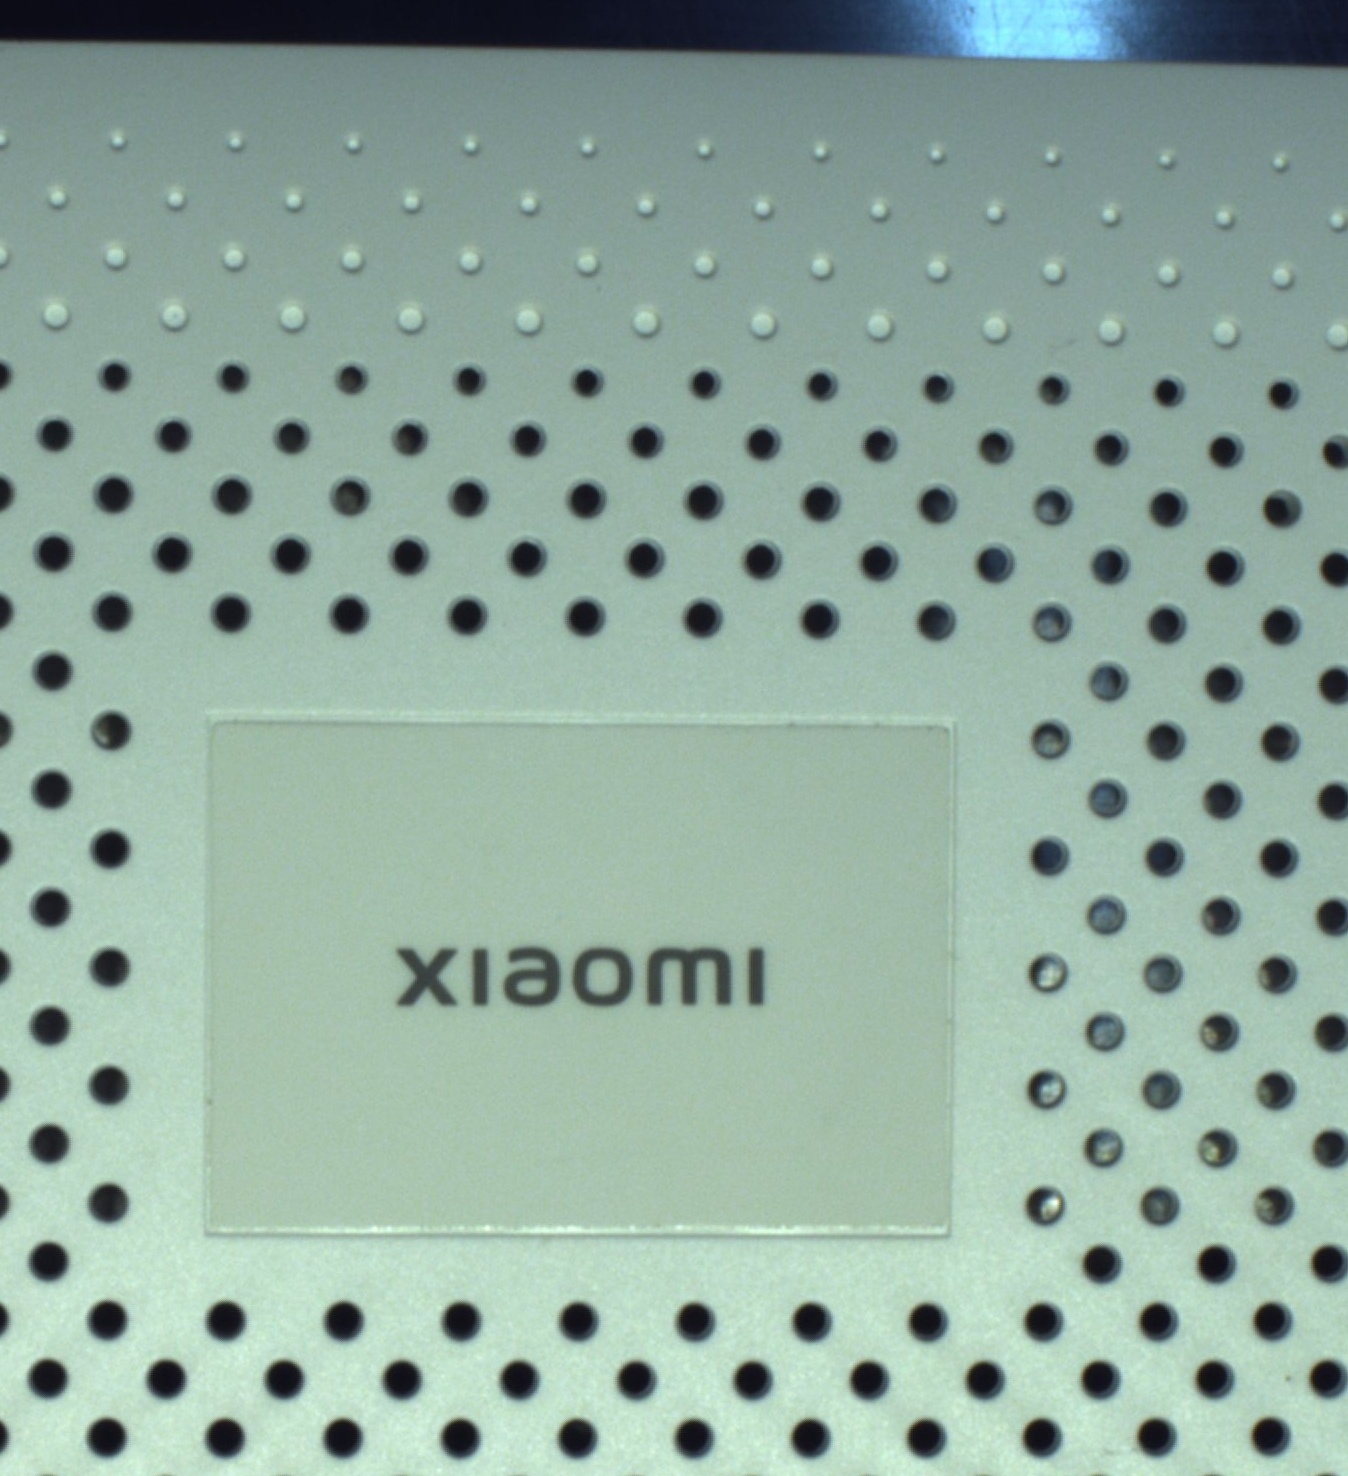MAB_OldUnicom: (385, 933, 791, 1030)
